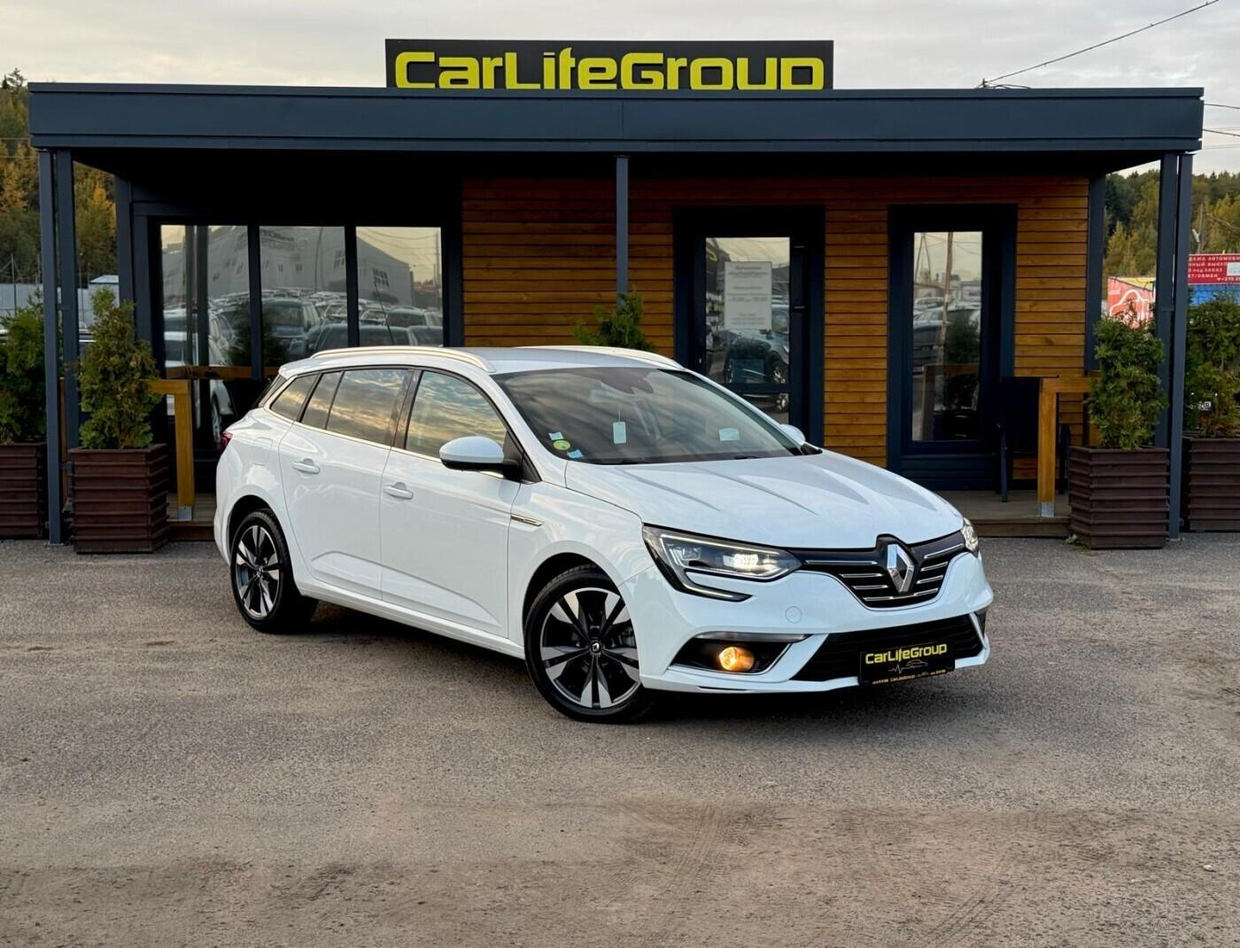Megane_2016-2020: (208, 332, 998, 721)
